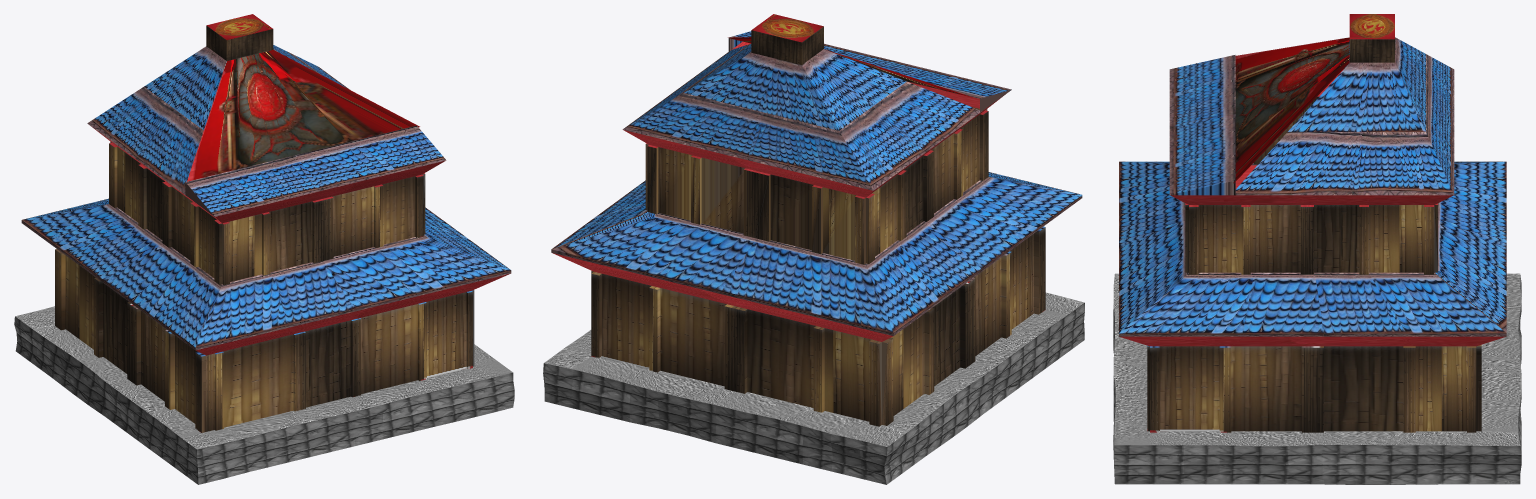
Rendered from JapaneseHouse.fbx.
3 views of the same model, side by side, from view 1: azimuth 30°, elevation 25°; view 2: azimuth 150°, elevation 25°; view 3: azimuth 270°, elevation 25° (orthographic). The views are drawn at different scales.
Visible parts, largest first — view 1: StoneBase; view 2: StoneBase; view 3: StoneBase.
Boxes of the visible parts, bbox=[...] form: StoneBase: bbox=[14, 14, 514, 484]; StoneBase: bbox=[543, 14, 1084, 484]; StoneBase: bbox=[1113, 14, 1521, 484].
Size of the model in its own units: 2015 by 2026 by 2014.
